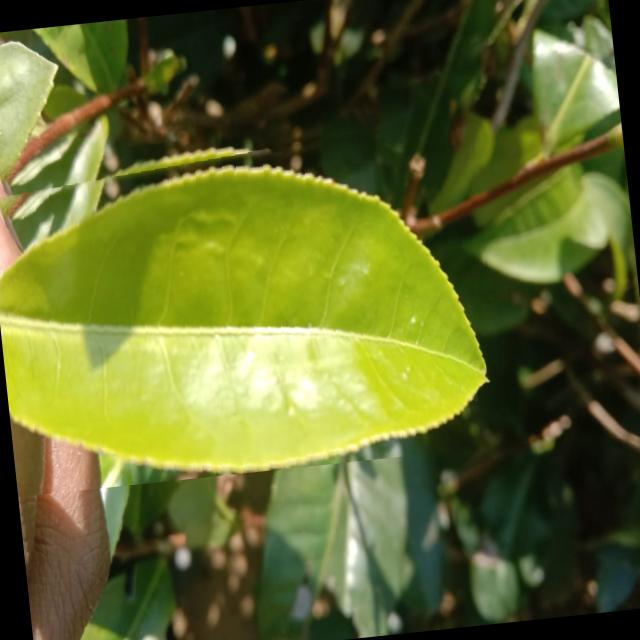Category B(2-4 days): (0, 112, 504, 496)
